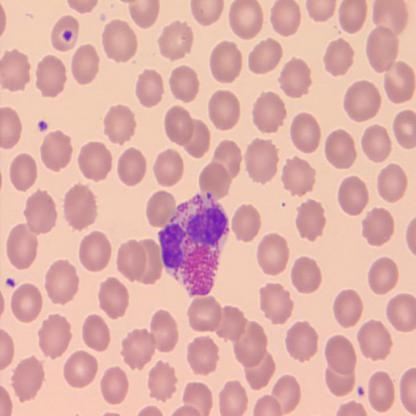Eosinophil: (158, 191, 230, 295)
